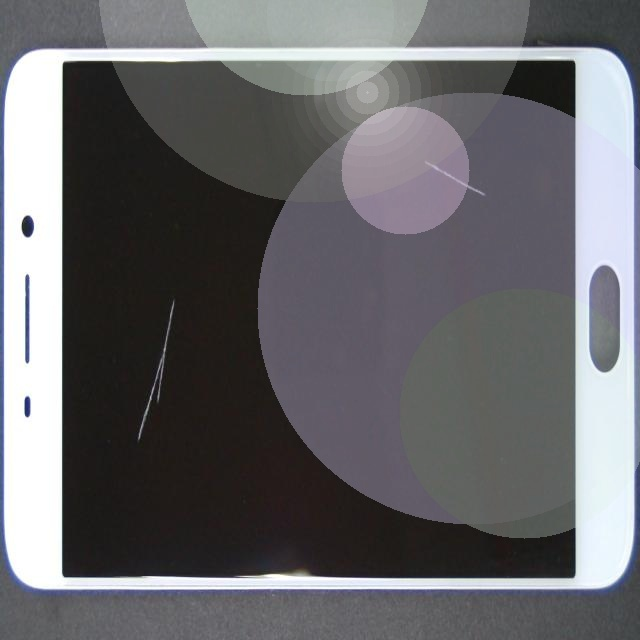scratch: (97, 55, 223, 514), (291, 115, 640, 253)
